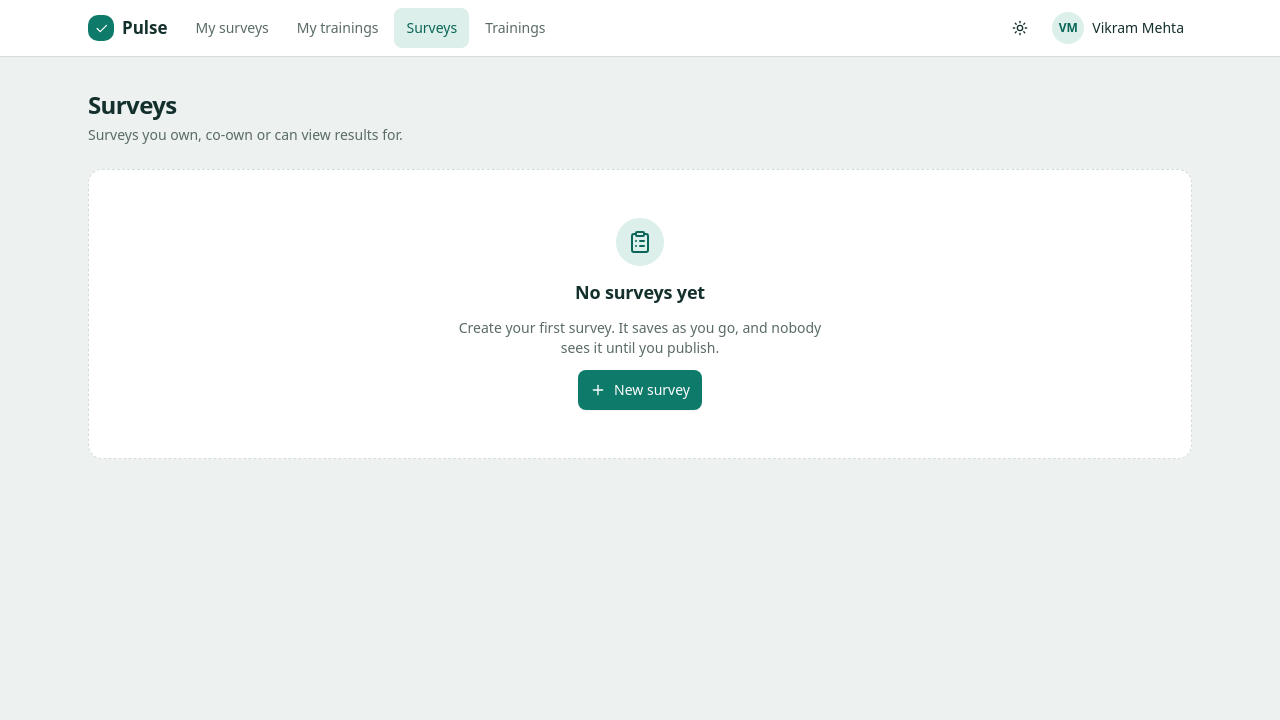
Test: account menu and sign out › forgets the page on sign-out, so the next person starts at their home page
Click the button named "Account: Vikram Mehta": click(1118, 28) [1044,8,1192,48]
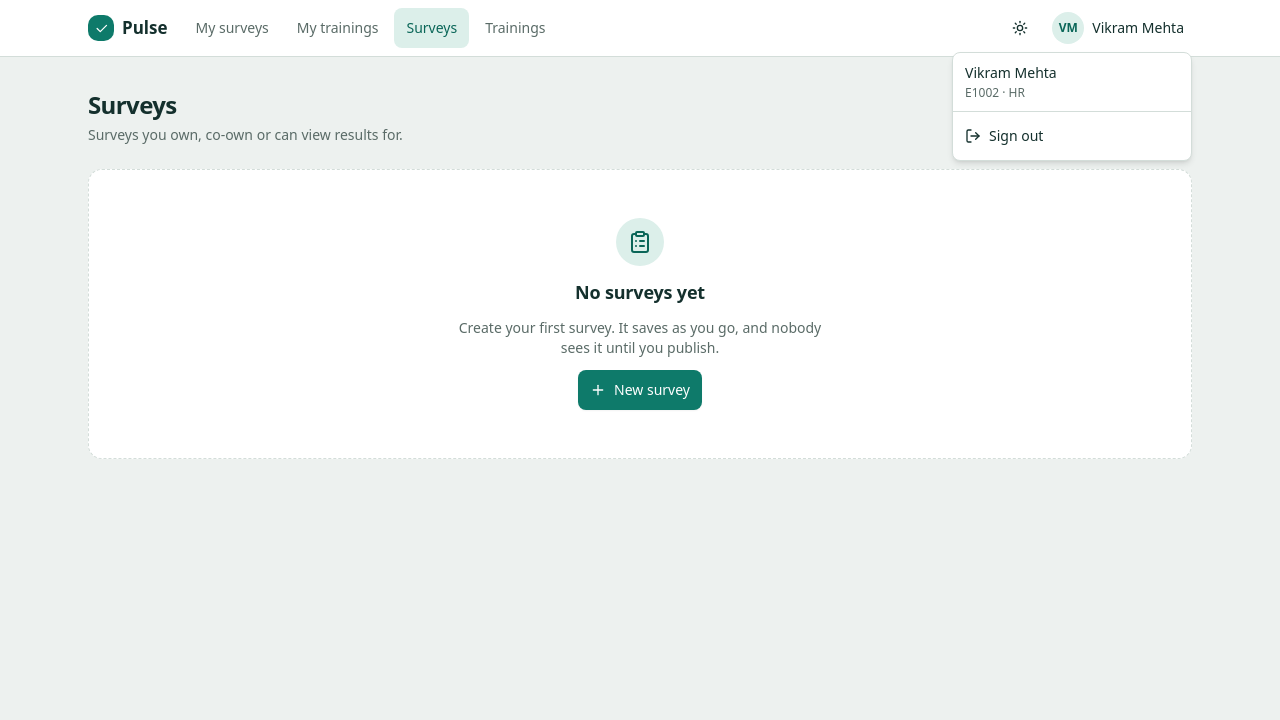
Click the menu item "Sign out": click(1004, 136) [965,126,1043,145]
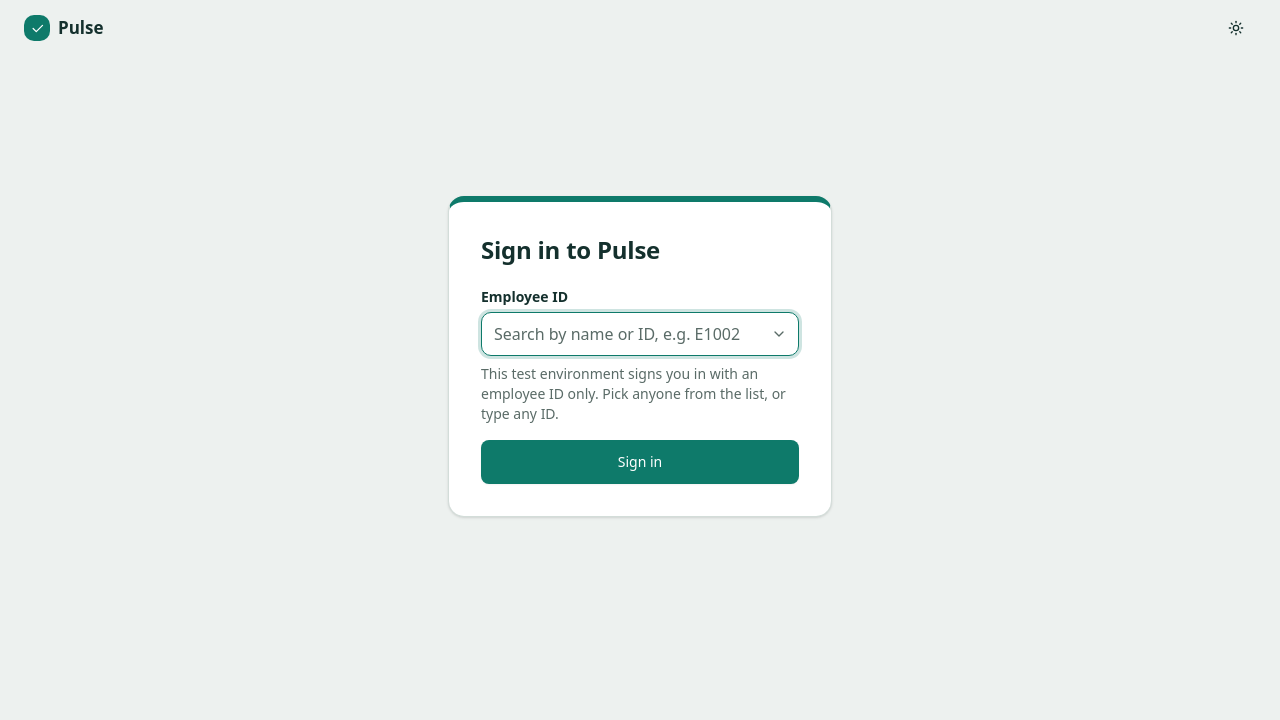
In the dropdown labelled "Employee ID": (640, 334) [481,312,799,356], type "E2001"
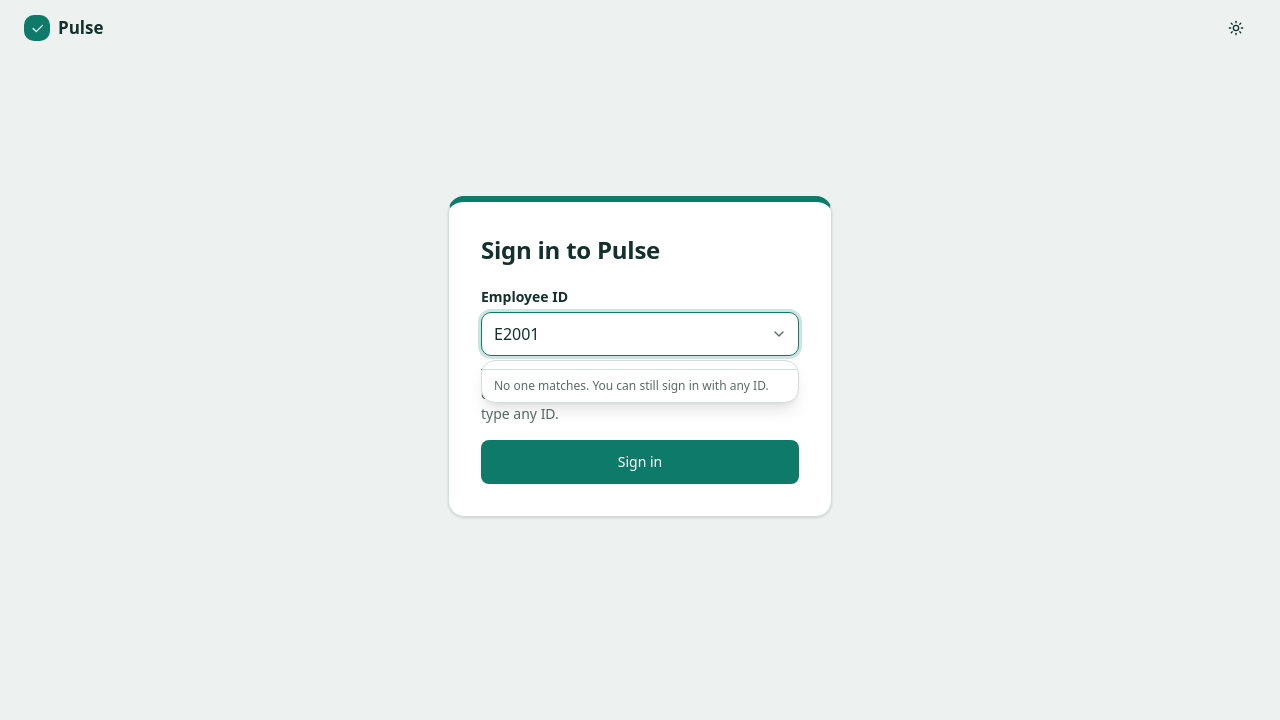
Click the button "Sign in": click(640, 462) [481,440,799,484]
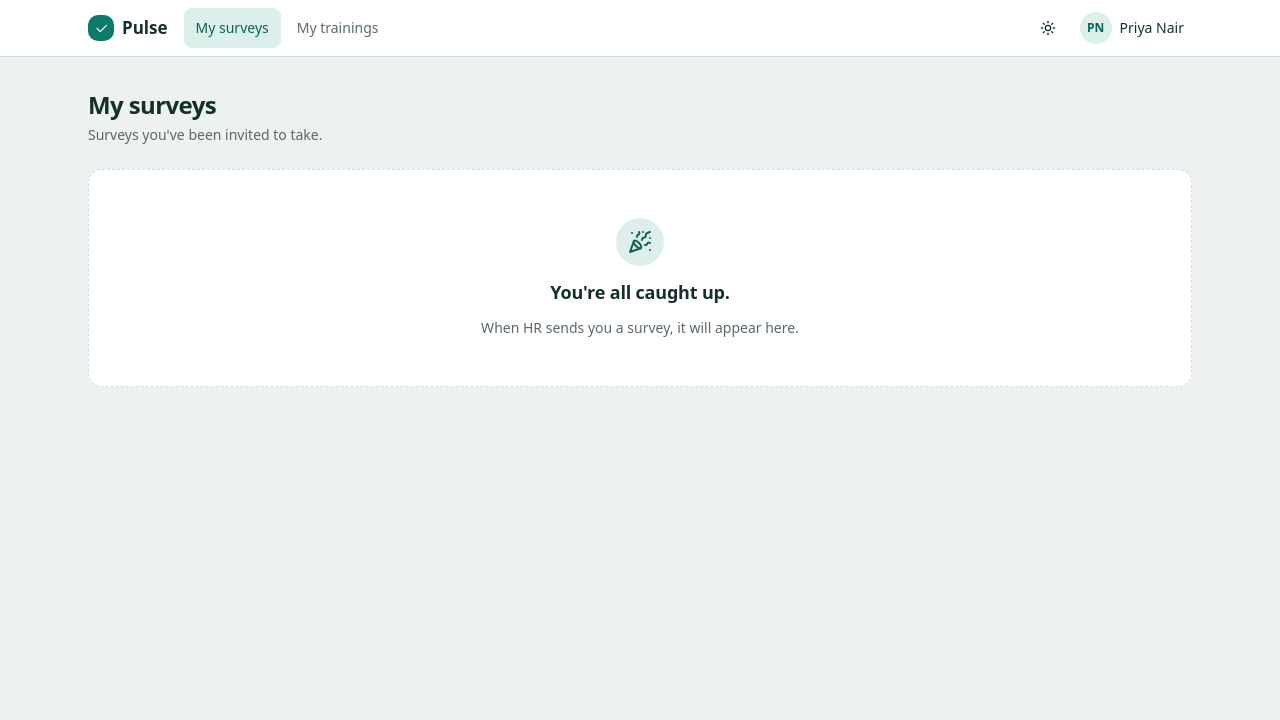
Expected: the heading "My surveys" is shown, [88,88,216,121]
